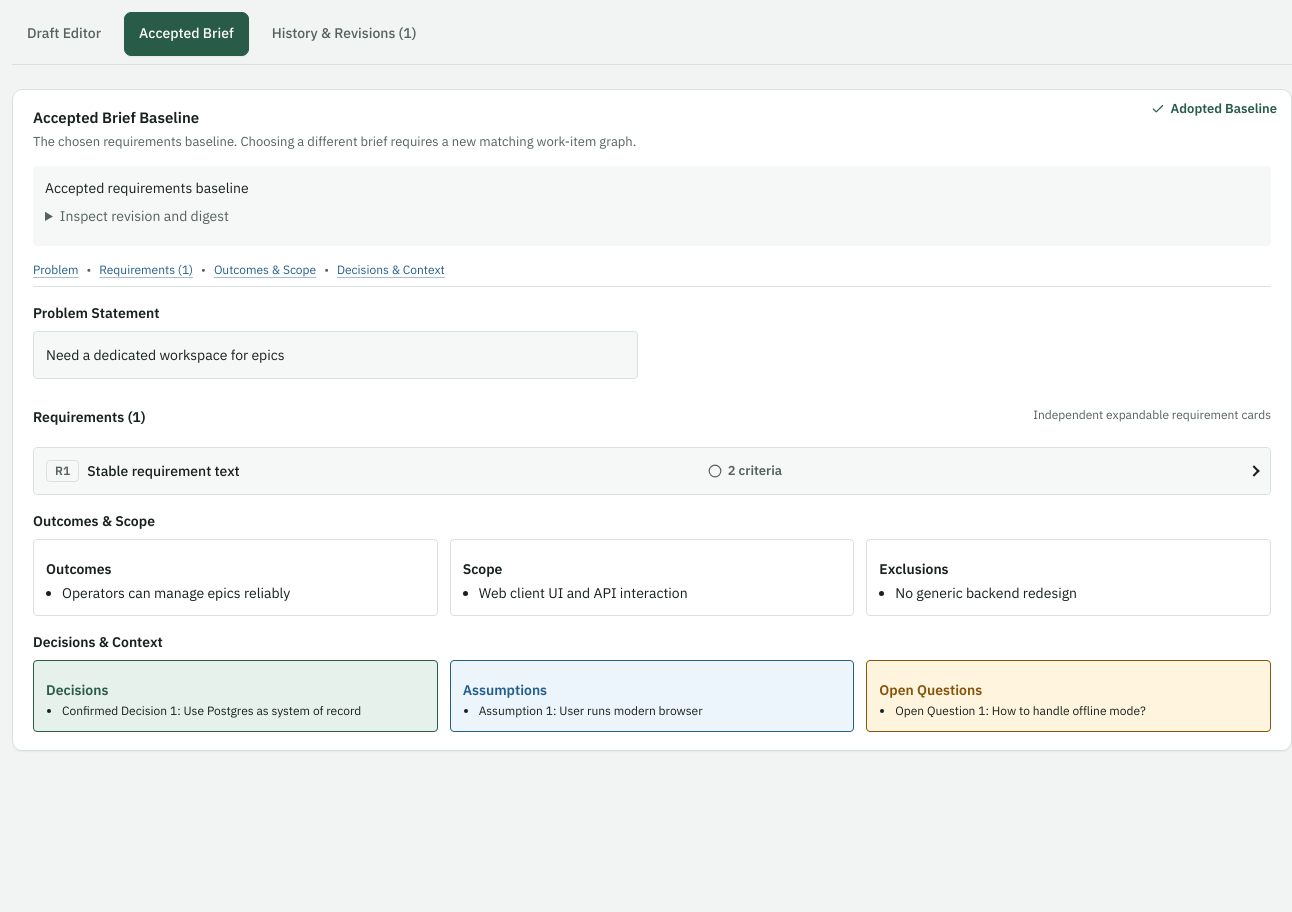
it: BriefEditor › renders brief draft, visually distinguishes decisions, assumptions, and open questions
Click the button "Draft Editor": (64, 34) [12,12,116,56]
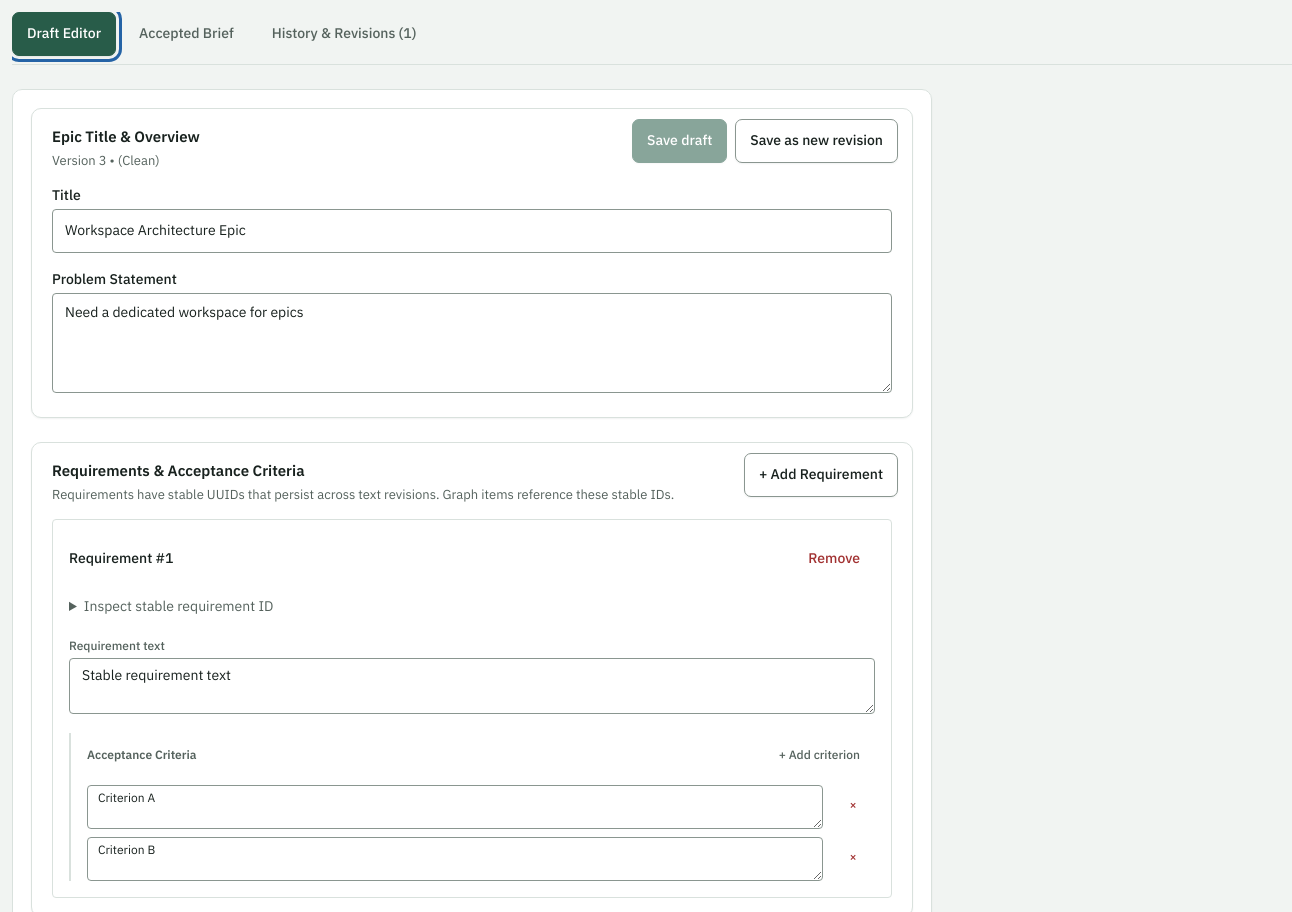
expect the field showing "Workspace Architecture Epic" is shown: met, box [52,209,892,253]
expect the text box showing "Need a dedicated workspace for epics" is shown: met, box [52,293,892,393]
expect the text box showing "Stable requirement text" is shown: met, box [69,658,875,714]
